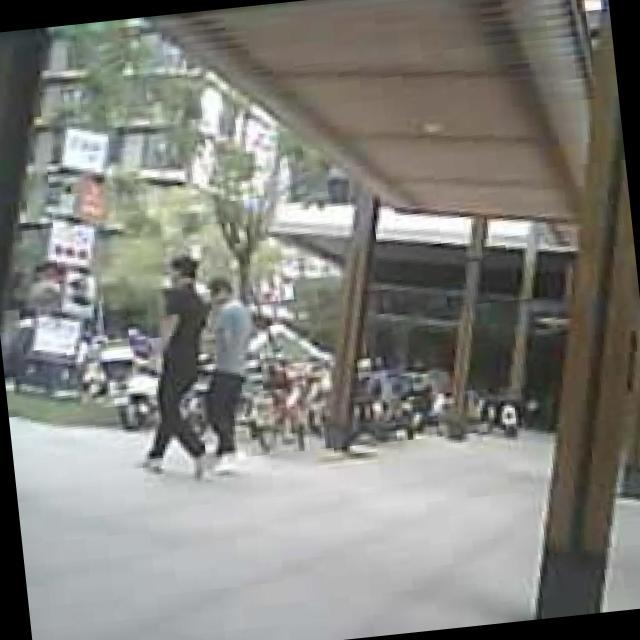person: (121, 255, 227, 486), (190, 273, 271, 462)
